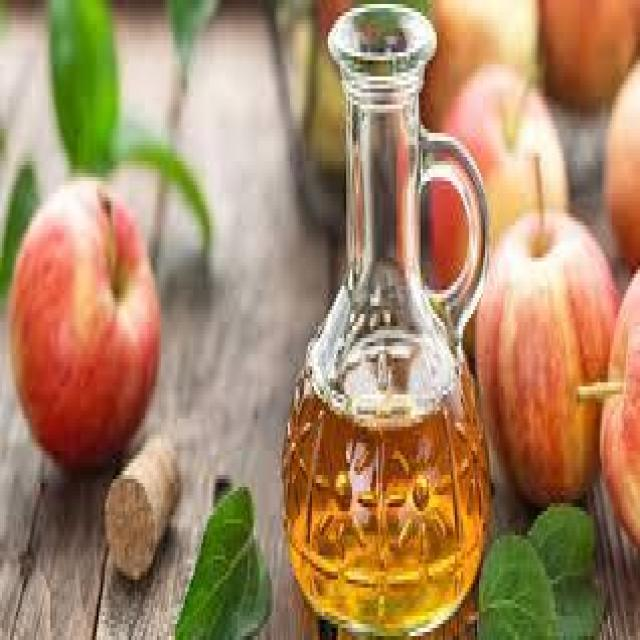maca: (473, 153, 618, 507), (8, 173, 161, 471)
